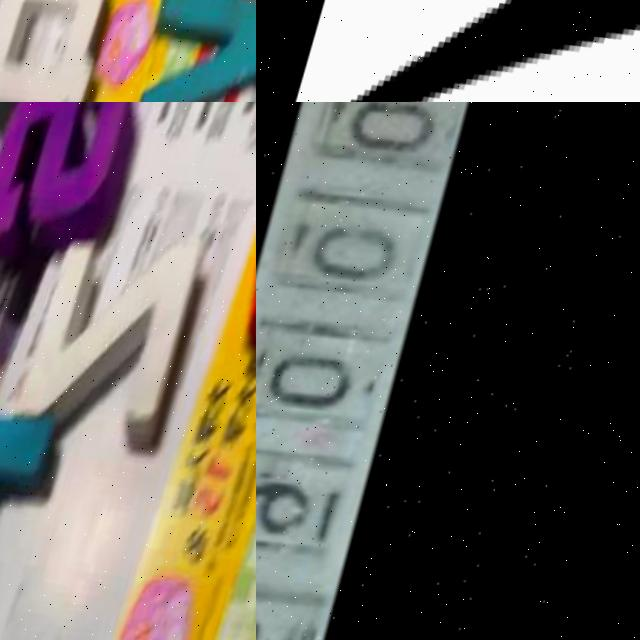0: (306, 210, 415, 296), (264, 344, 370, 427), (340, 102, 448, 169)
6: (256, 461, 329, 555)
7: (256, 0, 640, 102)
P: (0, 400, 73, 633)
Q: (0, 0, 132, 102)
S: (0, 102, 151, 277)
V: (120, 0, 256, 102)
Z: (15, 228, 219, 453)
